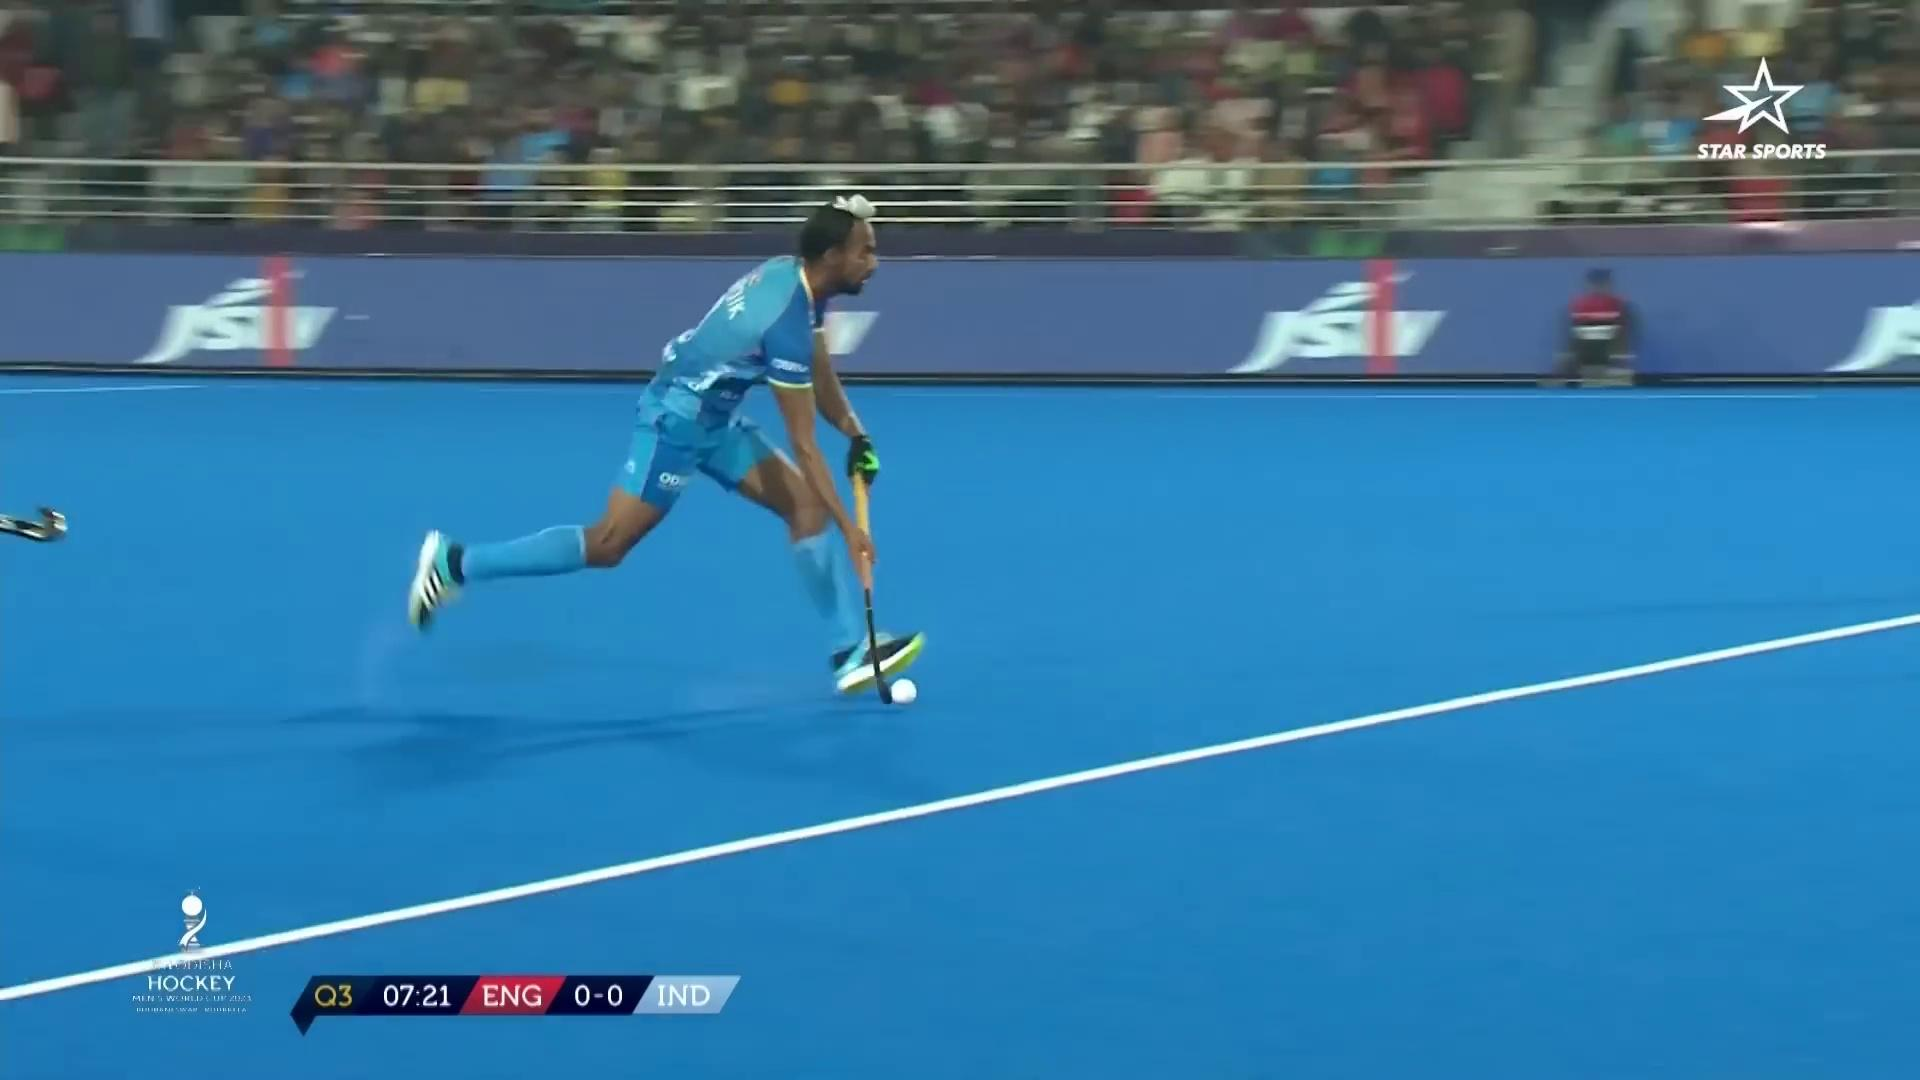ball: (865, 666, 934, 715)
